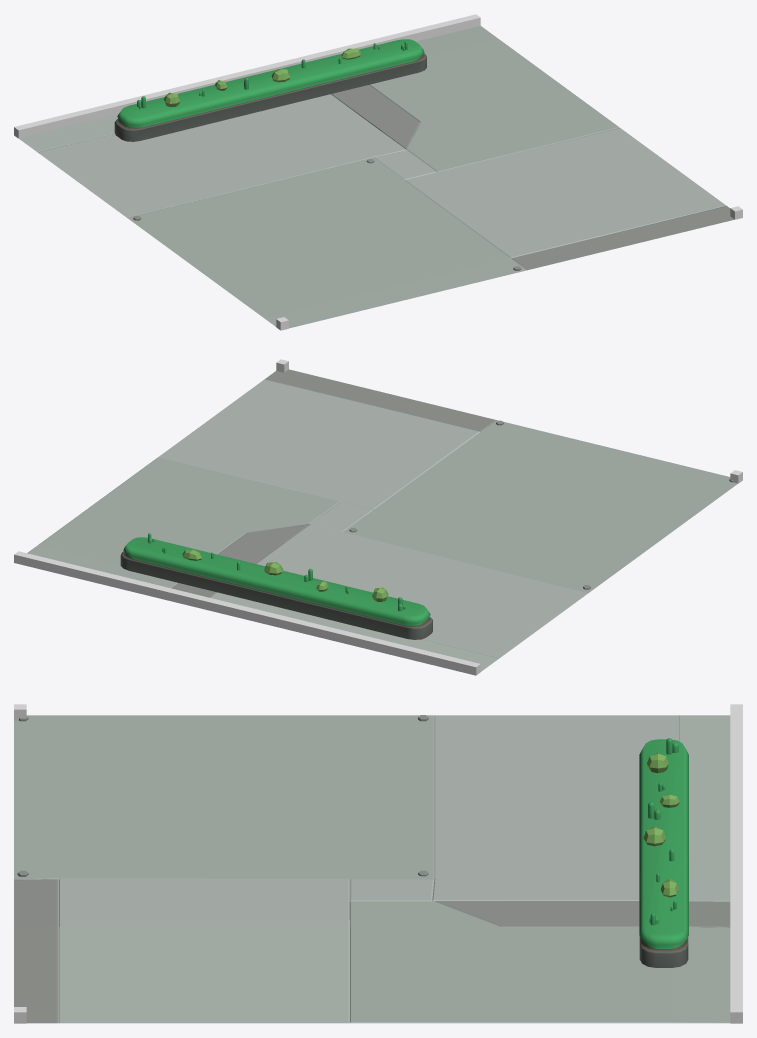
3 views of the same model, one above another, from view 1: azimuth 30°, elevation 25°; view 2: azimuth 150°, elevation 25°; view 3: azimuth 270°, elevation 25° (orthographic). The views are drawn at different scales.
Parts seen in each view (by area): view 1: Scifi_Panel_04_Plaza014_group4.040_Scifi_Panel_04_Plaza014_g, TreePatch_Plaza014_group3.035, Cube.1139_Cube.1268; view 2: Scifi_Panel_04_Plaza014_group4.040_Scifi_Panel_04_Plaza014_g, TreePatch_Plaza014_group3.035, Cube.1139_Cube.1268; view 3: Scifi_Panel_04_Plaza014_group4.040_Scifi_Panel_04_Plaza014_g, TreePatch_Plaza014_group3.035, Cube.1139_Cube.1268.
Boxes of the visible parts, <box> form: Scifi_Panel_04_Plaza014_group4.040_Scifi_Panel_04_Plaza014_g: <box>19,26,734,328</box>; TreePatch_Plaza014_group3.035: <box>114,39,426,141</box>; Cube.1139_Cube.1268: <box>14,14,480,138</box>; Scifi_Panel_04_Plaza014_group4.040_Scifi_Panel_04_Plaza014_g: <box>27,369,737,671</box>; TreePatch_Plaza014_group3.035: <box>120,537,432,639</box>; Cube.1139_Cube.1268: <box>14,551,480,675</box>; Scifi_Panel_04_Plaza014_group4.040_Scifi_Panel_04_Plaza014_g: <box>14,715,730,1023</box>; TreePatch_Plaza014_group3.035: <box>639,739,688,967</box>; Cube.1139_Cube.1268: <box>730,704,742,1023</box>.
Size of the model in its own units: 10 by 0.7155 by 10.
